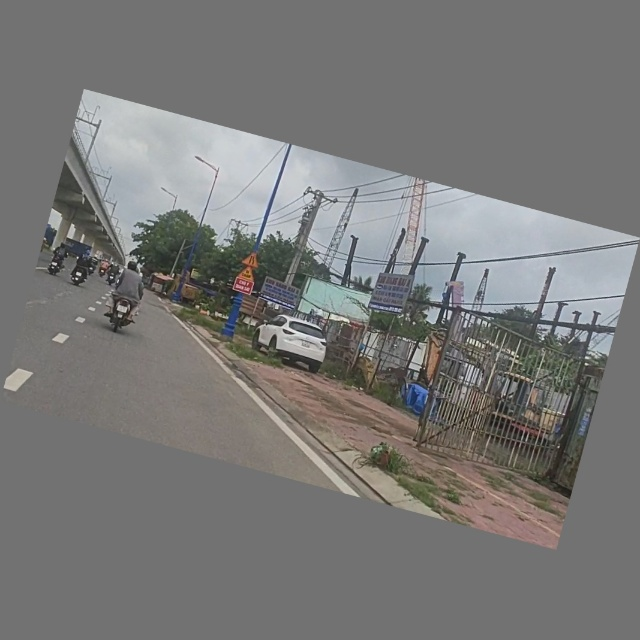W.203c: (241, 250, 263, 269)
W.245a: (237, 264, 259, 284)
